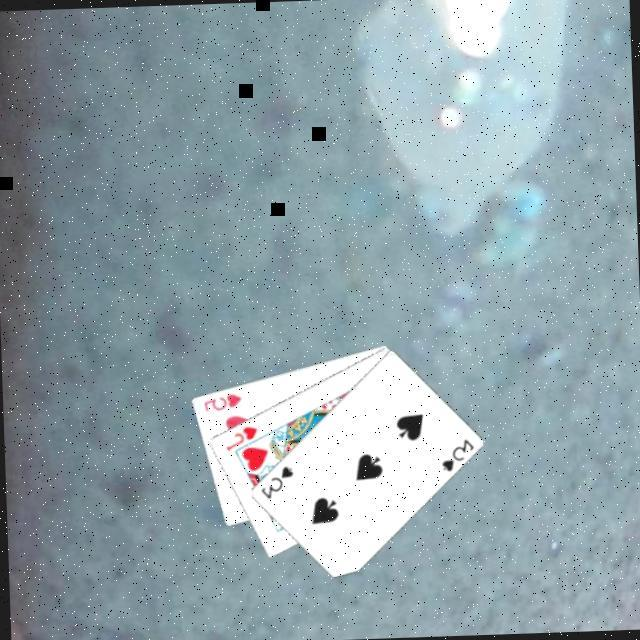3S: (255, 464, 296, 503), (437, 437, 476, 476)
5H: (199, 391, 244, 417)
JH: (220, 424, 259, 455)
